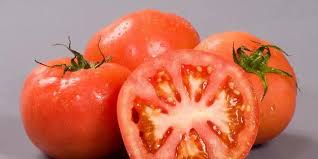tomate: (23, 19, 297, 155)
